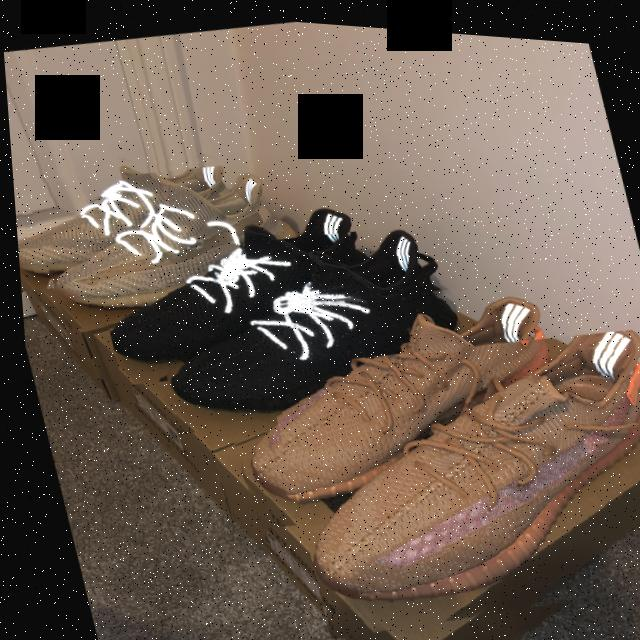shoe: (254, 294, 640, 640), (184, 243, 606, 548), (127, 197, 484, 449), (75, 170, 395, 400), (19, 141, 303, 344), (7, 122, 253, 306)
